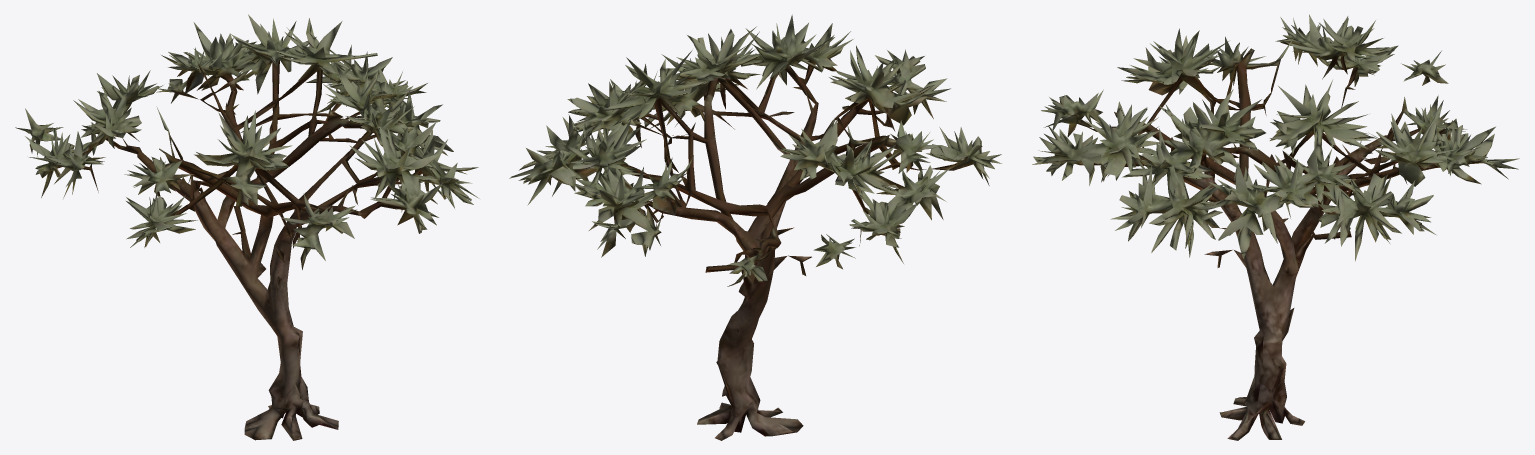
The model's file is acacia.glb.
The picture shows the model from 3 angles, left to right: view 1: azimuth 30°, elevation 25°; view 2: azimuth 150°, elevation 25°; view 3: azimuth 270°, elevation 25°; orthographic projection. The views are drawn at different scales.
Visible parts, largest first — view 1: tripo_node_544d68d1-7013-4970-a60a-d3579d19f6b5; view 2: tripo_node_544d68d1-7013-4970-a60a-d3579d19f6b5; view 3: tripo_node_544d68d1-7013-4970-a60a-d3579d19f6b5.
Part boxes in pixels (x1,y1,x2,y2): tripo_node_544d68d1-7013-4970-a60a-d3579d19f6b5: (15,14,479,440); tripo_node_544d68d1-7013-4970-a60a-d3579d19f6b5: (509,14,1001,440); tripo_node_544d68d1-7013-4970-a60a-d3579d19f6b5: (1032,14,1519,440).
Bounding box in the file's own units: 0.8584 × 0.7941 × 0.9758.
Materials: 1 (1 with a texture image).
